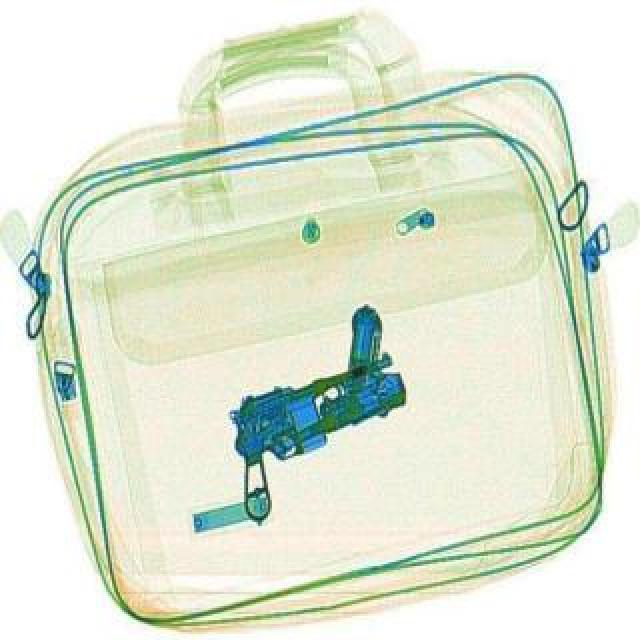gun: (202, 344, 430, 518), (226, 300, 422, 460)
